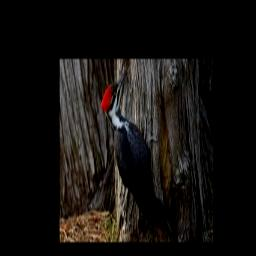Woodpecker: (100, 67, 175, 240)
